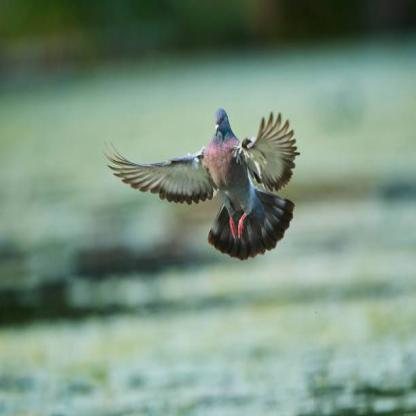Flying Rat: (101, 101, 302, 279)
